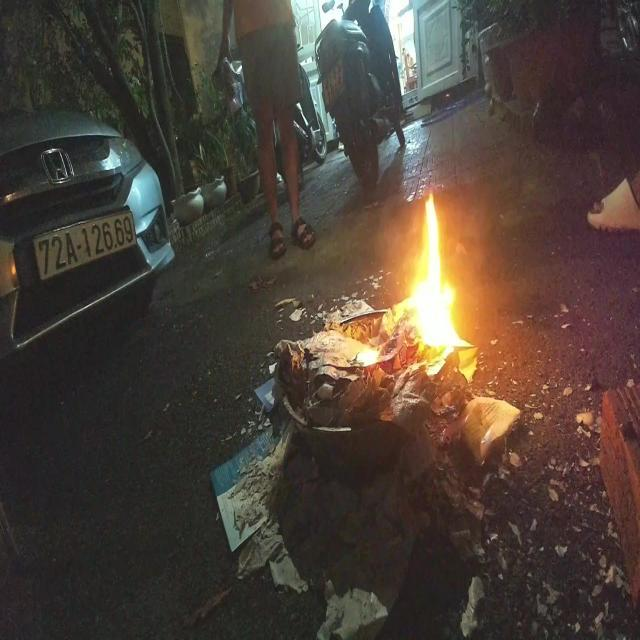Fire: (356, 192, 474, 376)
